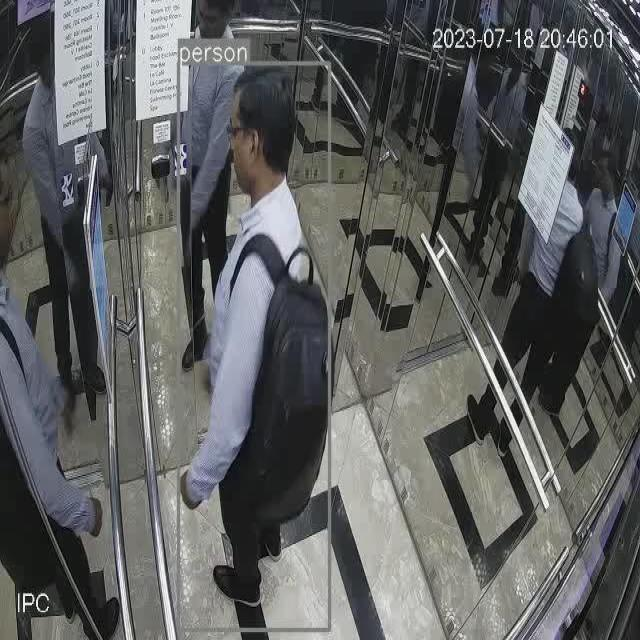person: (181, 61, 333, 631), (0, 230, 123, 640), (178, 0, 254, 379)
